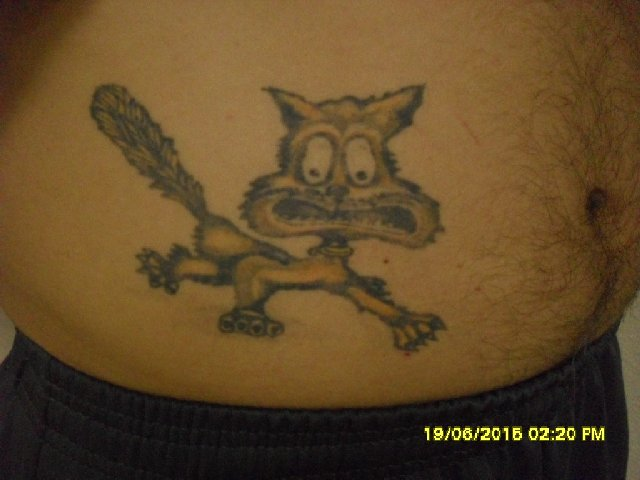tatu8_kot: (83, 30, 470, 369)
